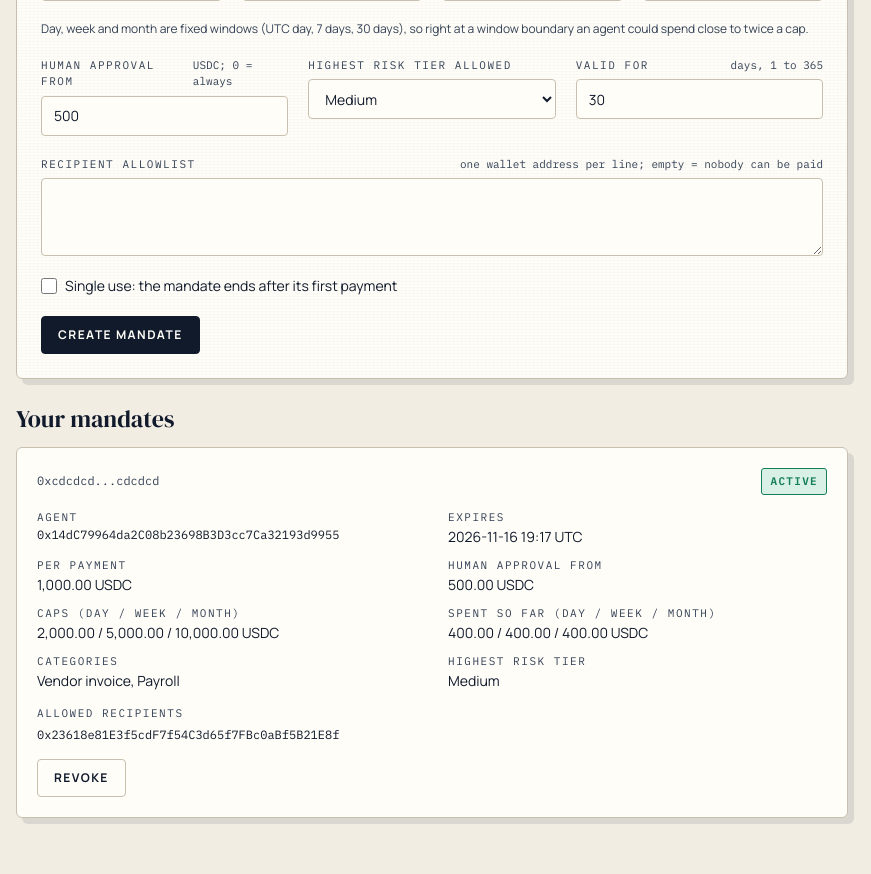
Test case: Founder: mandates › shows the backend’s reason when a revoke is refused
(page scrolled)
Click the button "Revoke" at (81, 778), box [37,758,126,796]
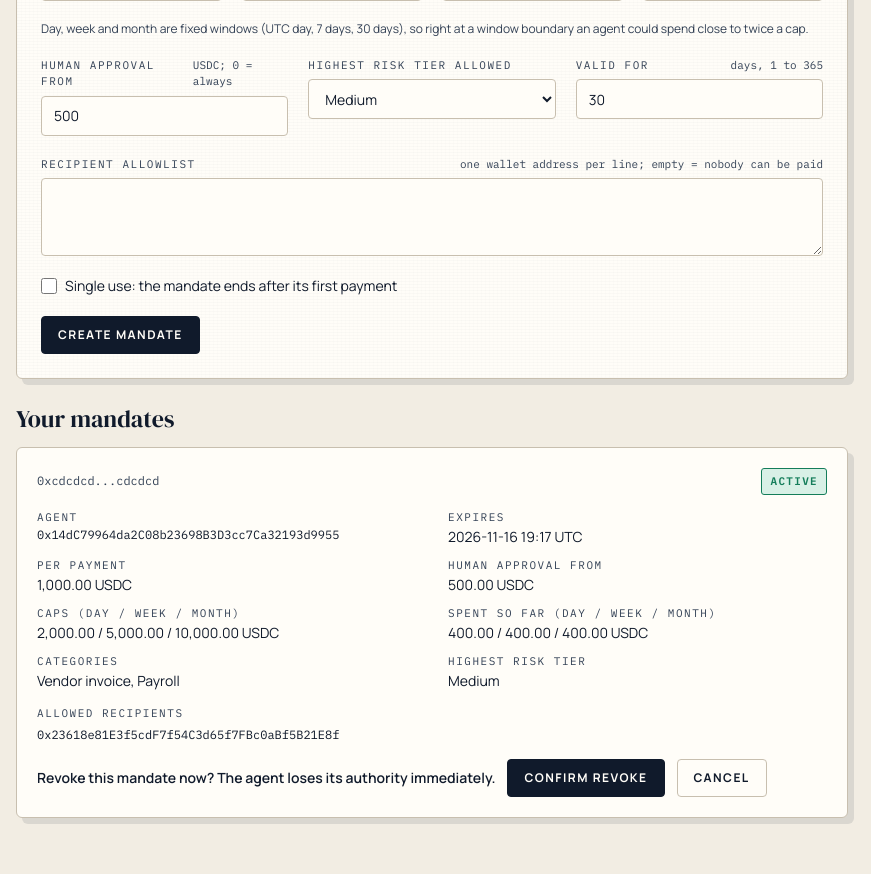
Click the button "Confirm revoke" at (586, 778), box [508,758,664,796]
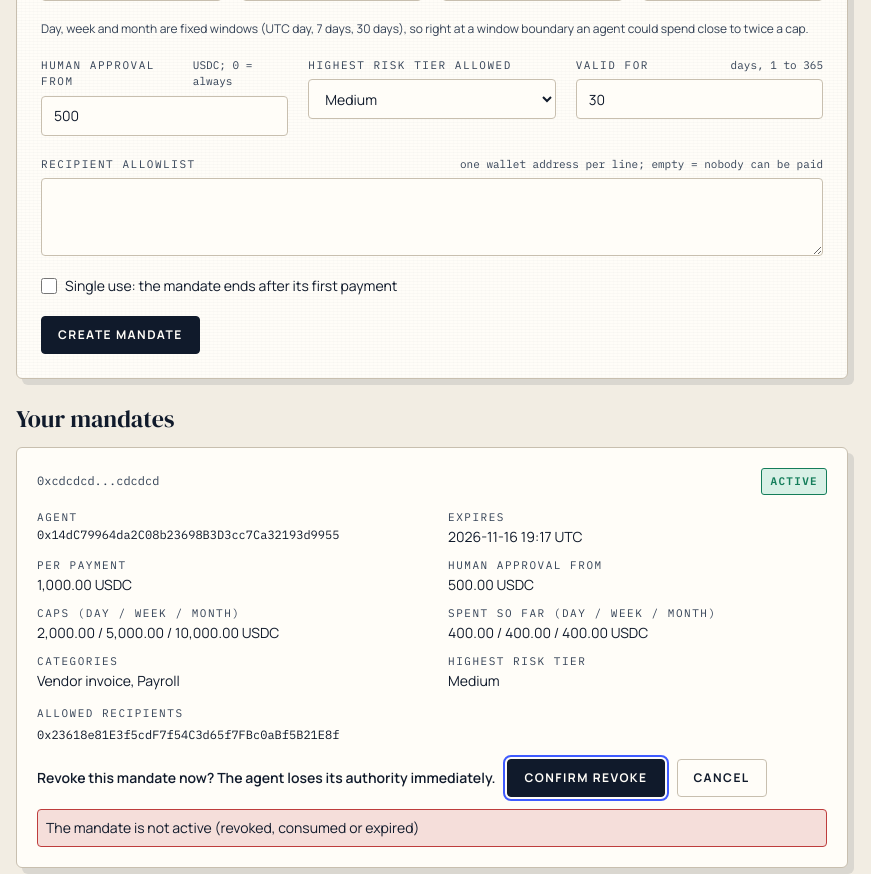
Check: the text "The mandate is not active (revoked, consumed or expired)" is shown, box [37,808,827,846]
